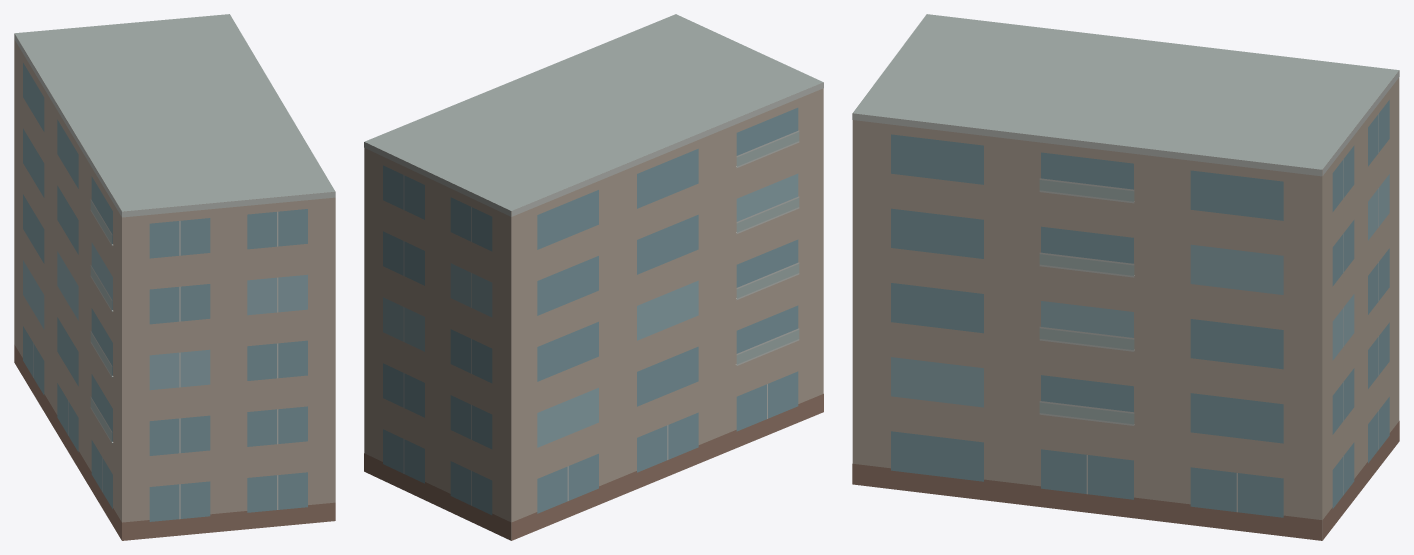
The model's file is survey-upis-32943298.glb.
3 views of the same model, side by side, from view 1: azimuth 30°, elevation 25°; view 2: azimuth 150°, elevation 25°; view 3: azimuth 270°, elevation 25° (orthographic). The views are drawn at different scales.
Visible parts, largest first — view 1: survey-upis-32943298.tmp; view 2: survey-upis-32943298.tmp; view 3: survey-upis-32943298.tmp.
Boxes of the visible parts, x1,y1,x2,y2 form: survey-upis-32943298.tmp: [14, 14, 335, 540]; survey-upis-32943298.tmp: [364, 14, 823, 540]; survey-upis-32943298.tmp: [852, 14, 1399, 540].
Size of the model in its own units: 12.3 by 13.65 by 18.25.
